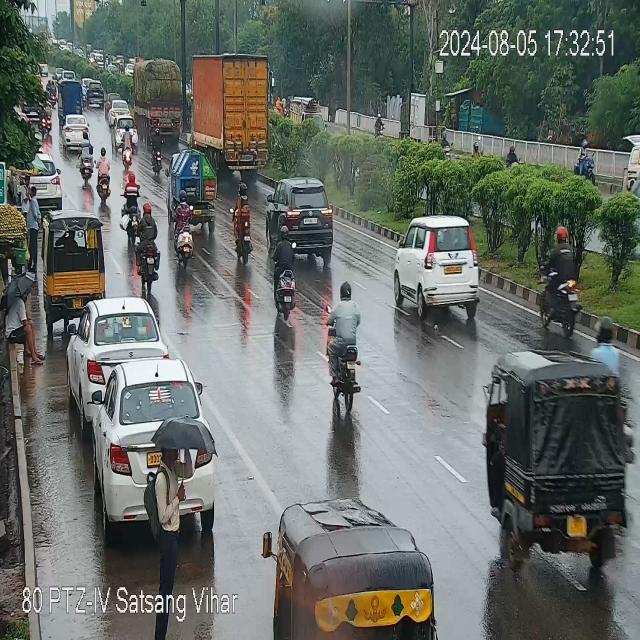2-wheelers: (324, 287, 367, 420), (540, 237, 587, 336), (267, 244, 301, 314), (134, 202, 160, 290), (170, 197, 198, 269), (230, 188, 250, 260), (574, 136, 598, 184), (78, 136, 100, 184), (125, 169, 140, 239), (94, 149, 112, 205), (39, 87, 53, 138), (150, 126, 162, 180), (121, 125, 135, 170), (372, 112, 384, 140)
auto: (490, 350, 639, 559), (268, 510, 447, 640), (45, 216, 111, 310), (173, 149, 222, 235), (59, 76, 87, 125)
car: (90, 355, 216, 538), (396, 217, 482, 323), (72, 298, 164, 394), (269, 183, 338, 259), (60, 114, 92, 149), (86, 81, 111, 108), (105, 99, 133, 119)
pedestrian: (141, 418, 186, 640), (8, 269, 41, 372), (18, 174, 42, 268)
truck: (192, 55, 278, 168), (132, 54, 185, 138), (289, 97, 326, 137)
